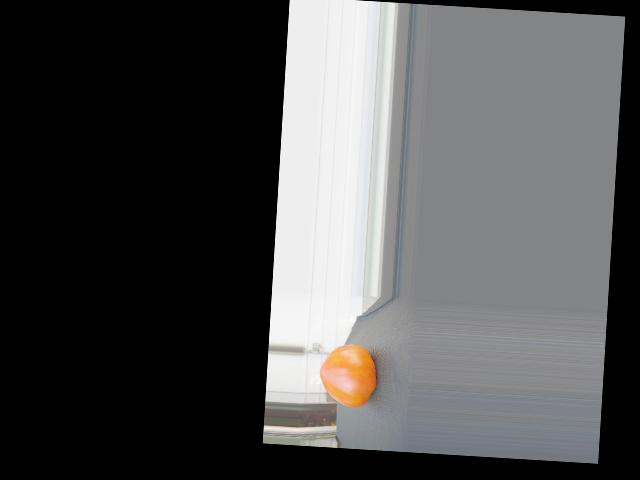tomato: (317, 342, 378, 408)
